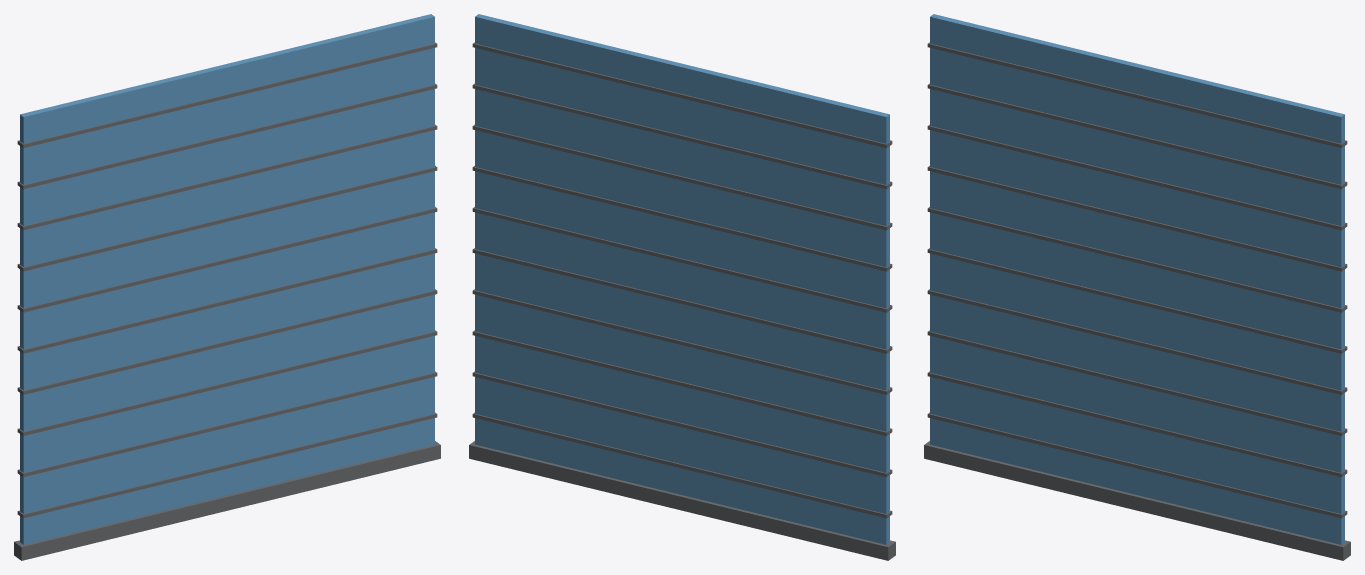
Rendered from roller-door.glb.
3 views of the same model, side by side, from view 1: azimuth 30°, elevation 25°; view 2: azimuth 150°, elevation 25°; view 3: azimuth 330°, elevation 25° (orthographic).
Parts seen in each view (by area): view 1: shutter/blue, shutter/charcoal; view 2: shutter/blue, shutter/charcoal; view 3: shutter/blue, shutter/charcoal.
Boxes of the visible parts, left/top/right/bottom form: shutter/blue: left=20, top=14, right=434, bottom=544; shutter/charcoal: left=14, top=42, right=440, bottom=560; shutter/blue: left=475, top=14, right=889, bottom=544; shutter/charcoal: left=469, top=42, right=895, bottom=560; shutter/blue: left=930, top=14, right=1344, bottom=544; shutter/charcoal: left=924, top=42, right=1350, bottom=560.
Bounding box in the file's own units: 3.2 × 3.22 × 0.1.
